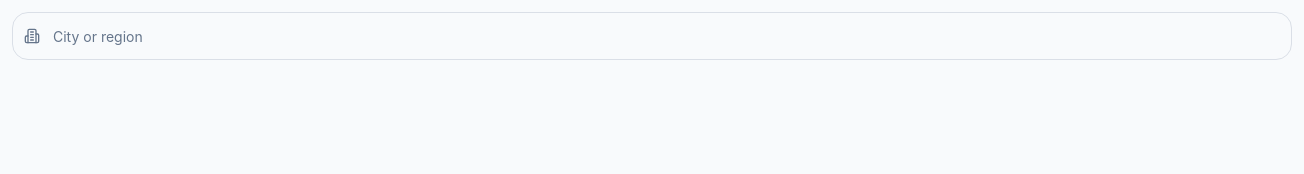
Test: HotelDestinationCombobox › closes dropdown after selection
Type "syd" into the dropdown at point(652, 36), box [12,12,1292,60]
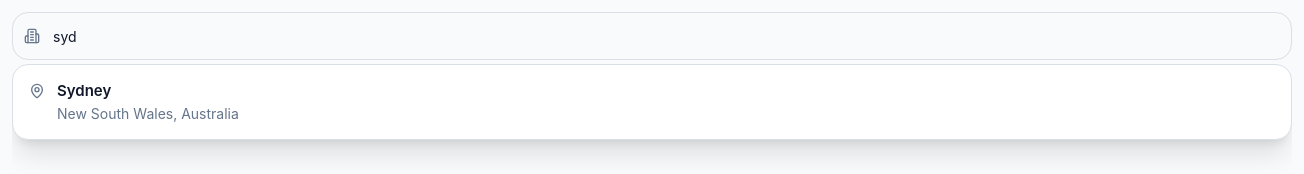
Result: the list is shown at [13,65,1291,139]
Click the button "Sydney New South Wales, Australia" at point(84, 90), box [13,69,1291,135]
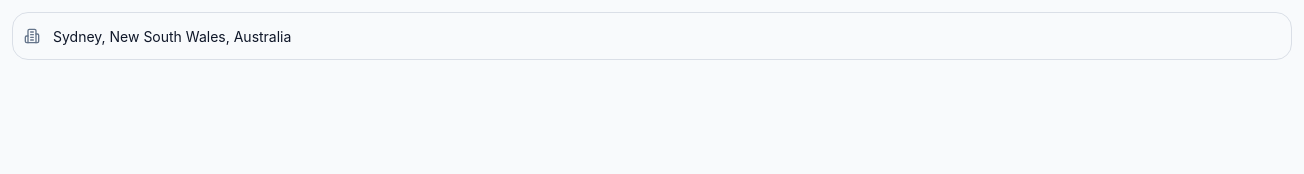
Result: the list is gone
